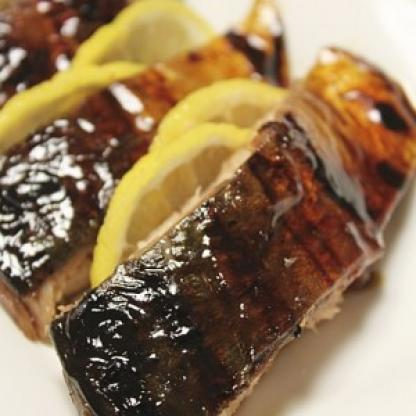Peixe: (72, 145, 364, 413), (299, 52, 416, 234)
